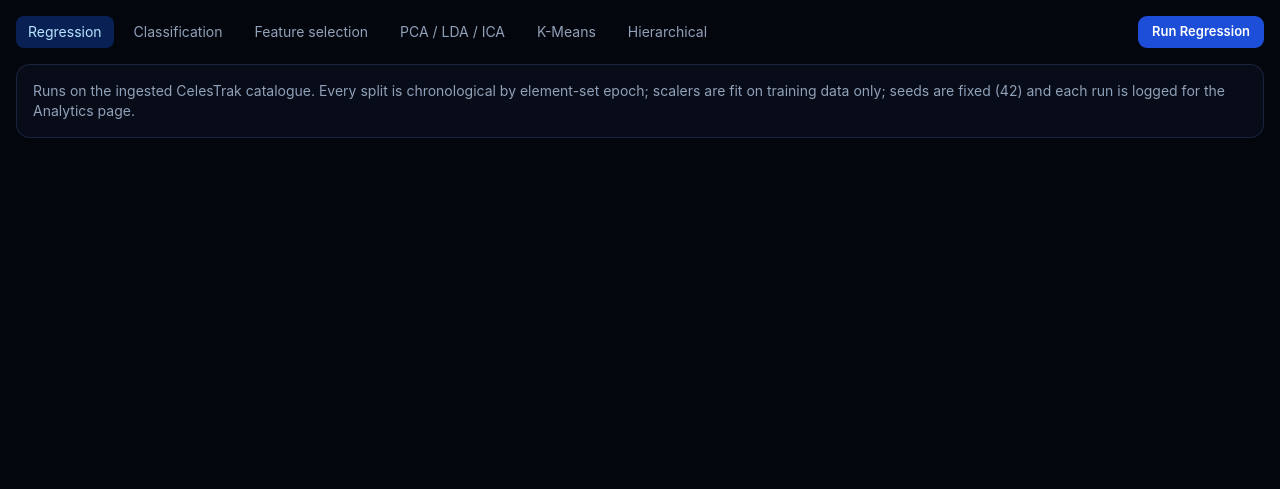
every page renders against real API payloads › ML Lab tab Classification
The width and height of the screenshot is (1280, 489).
Click the button "Classification".
click(178, 32)  # box [122,16,234,48]
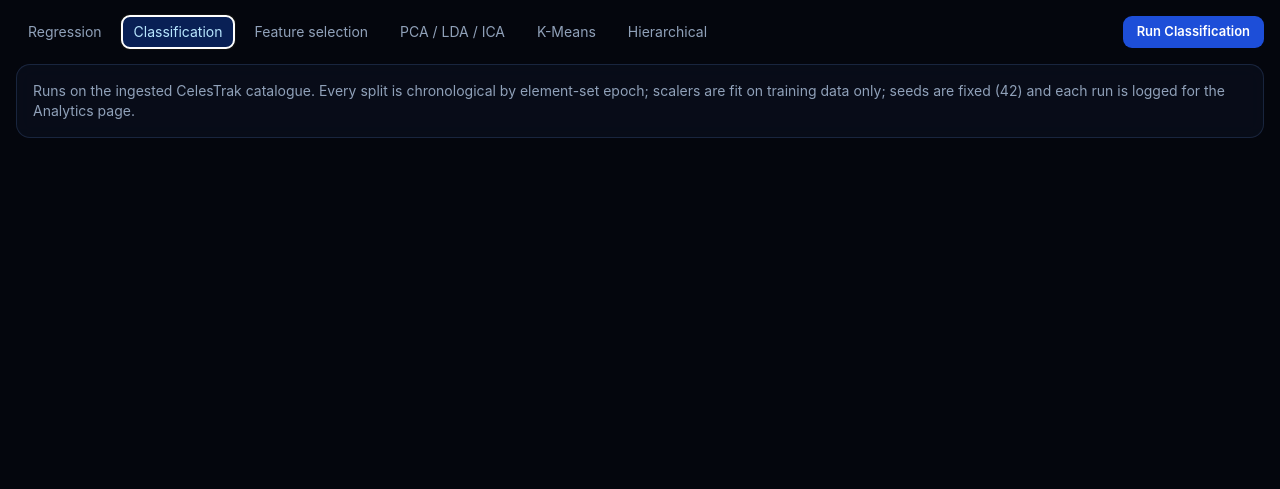
Click the button "Run Classification".
click(1193, 32)  # box [1123,16,1264,48]
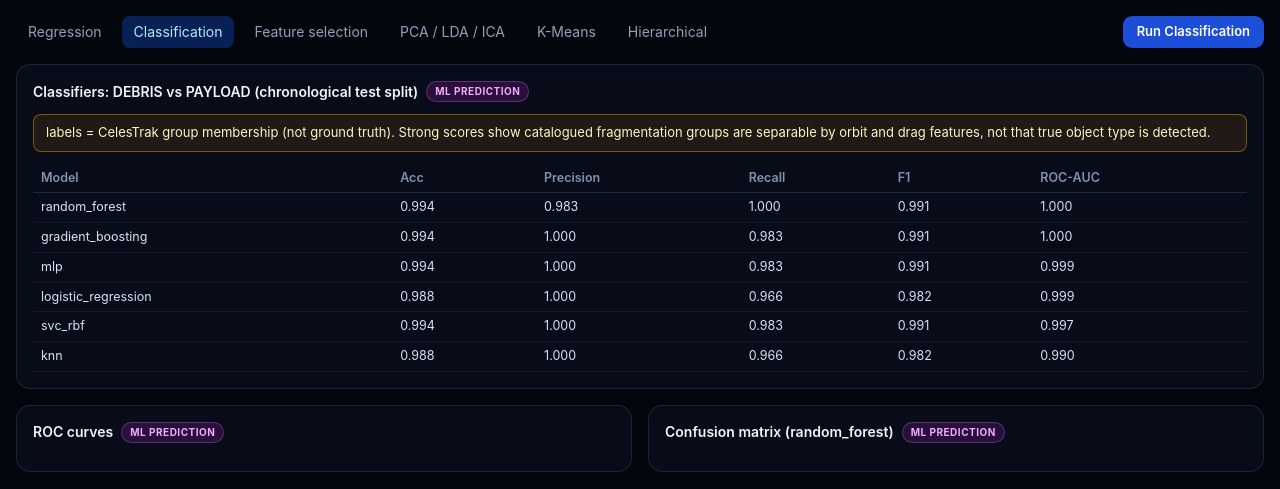
Expected: the heading "Classifiers: DEBRIS vs PAYLOAD (chronological test split)" is shown, [33,82,418,102]
